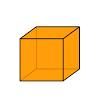cubos: (16, 23, 81, 84)
